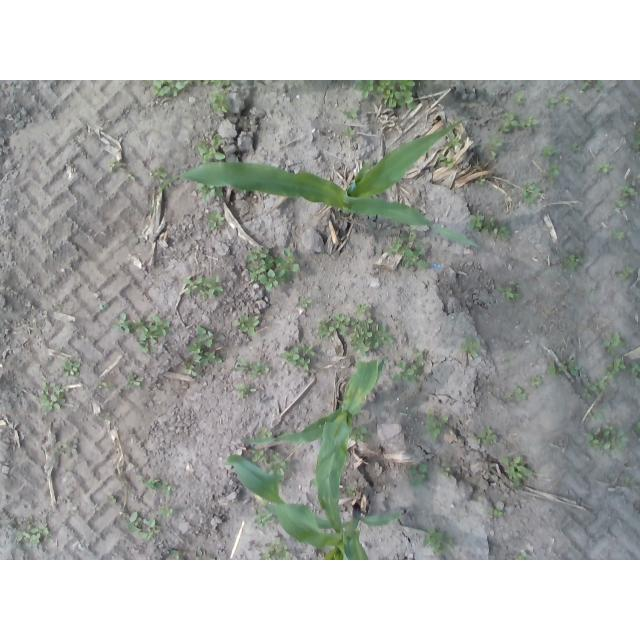Maize: (154, 118, 483, 249), (241, 358, 386, 534), (224, 456, 404, 561)
Weeds: (548, 351, 629, 402), (317, 303, 395, 353), (243, 244, 301, 293), (112, 312, 171, 356), (180, 324, 224, 377), (385, 227, 431, 274), (352, 80, 421, 109), (3, 507, 50, 549), (583, 427, 629, 458), (393, 345, 427, 384), (468, 214, 512, 244), (38, 381, 70, 419), (281, 343, 319, 375), (502, 454, 534, 490), (184, 273, 226, 299), (127, 511, 162, 542), (231, 312, 262, 342), (423, 407, 449, 442), (499, 114, 542, 135), (257, 537, 295, 560), (423, 529, 454, 556), (234, 356, 273, 377), (198, 135, 228, 161), (151, 80, 194, 98), (404, 465, 432, 491), (456, 330, 484, 356), (207, 92, 231, 121), (498, 279, 523, 305), (521, 179, 544, 206), (476, 424, 501, 448), (603, 332, 627, 357), (138, 475, 171, 493), (544, 94, 570, 115), (197, 184, 227, 202), (60, 355, 83, 378), (265, 454, 291, 474), (504, 384, 528, 405), (615, 184, 636, 208), (562, 249, 582, 274), (204, 212, 226, 234), (484, 134, 505, 154), (233, 383, 254, 402), (542, 169, 563, 188), (595, 161, 617, 179), (59, 440, 77, 461), (339, 128, 361, 145), (437, 153, 459, 170), (444, 134, 467, 149), (255, 509, 272, 529), (579, 80, 605, 93), (128, 371, 144, 392), (539, 145, 557, 163), (528, 373, 545, 392), (293, 297, 316, 311), (343, 108, 362, 123), (198, 80, 232, 88), (352, 427, 369, 442), (628, 360, 640, 381), (487, 506, 506, 519), (616, 268, 635, 281), (631, 127, 640, 154), (97, 382, 116, 394), (612, 229, 627, 244), (154, 167, 171, 180), (255, 428, 273, 440), (158, 506, 174, 519), (590, 410, 606, 423), (502, 354, 519, 366), (250, 447, 264, 461), (516, 91, 528, 107), (440, 462, 452, 478), (571, 141, 583, 155), (588, 278, 598, 294), (108, 160, 120, 172), (98, 301, 111, 312), (169, 549, 183, 559), (344, 487, 356, 498), (474, 178, 487, 188), (105, 494, 118, 503), (191, 549, 204, 557), (128, 174, 138, 182), (517, 553, 528, 560), (635, 421, 640, 435), (208, 557, 217, 560)
